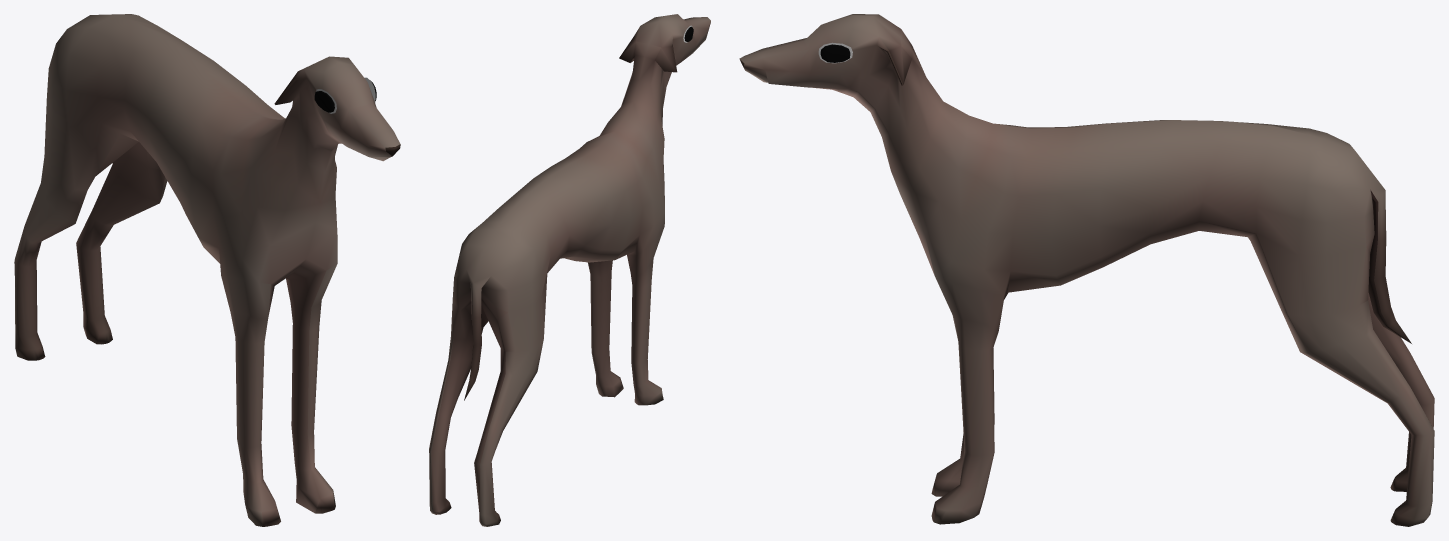
File: animals-animals-greyhound_v1.fbx
3 renders of one model, left to right at view 1: azimuth 30°, elevation 25°; view 2: azimuth 150°, elevation 25°; view 3: azimuth 270°, elevation 25°, orthographic. The views are drawn at different scales.
Visible parts, largest first — view 1: Greyhound.001; view 2: Greyhound.001; view 3: Greyhound.001.
Boxes of the visible parts, box(x1,y1,x2,y2) form: Greyhound.001: box(14, 14, 400, 526); Greyhound.001: box(429, 14, 710, 526); Greyhound.001: box(739, 14, 1434, 526).
Bounding box in the file's own units: 0.1968 × 0.8678 × 1.12.
